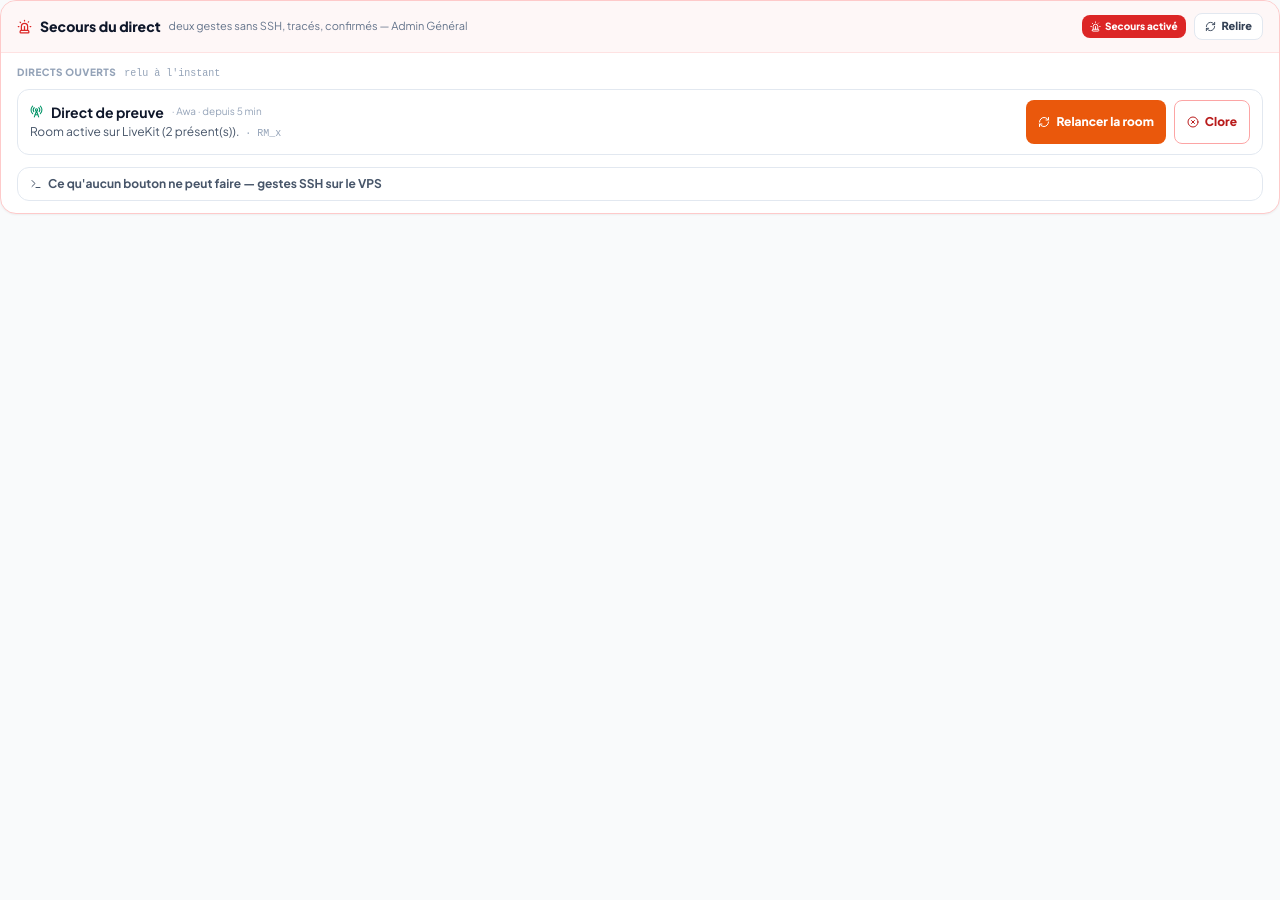
Test: SAT-6 — panneau Secours du direct › l'Admin Général : diagnostic → modale avec le périmètre réel → confirmation cochée → jeton du diagnostic envoyé → verdict affiché
Expected: the text "Direct de preuve" is shown, [51,102,164,122]
Expected: the element with test id "live-emergency-mode" reads "Secours activé", [1105,20,1178,32]
Click the button "Relancer la room".
click(1096, 122)  # box [1026,100,1166,144]
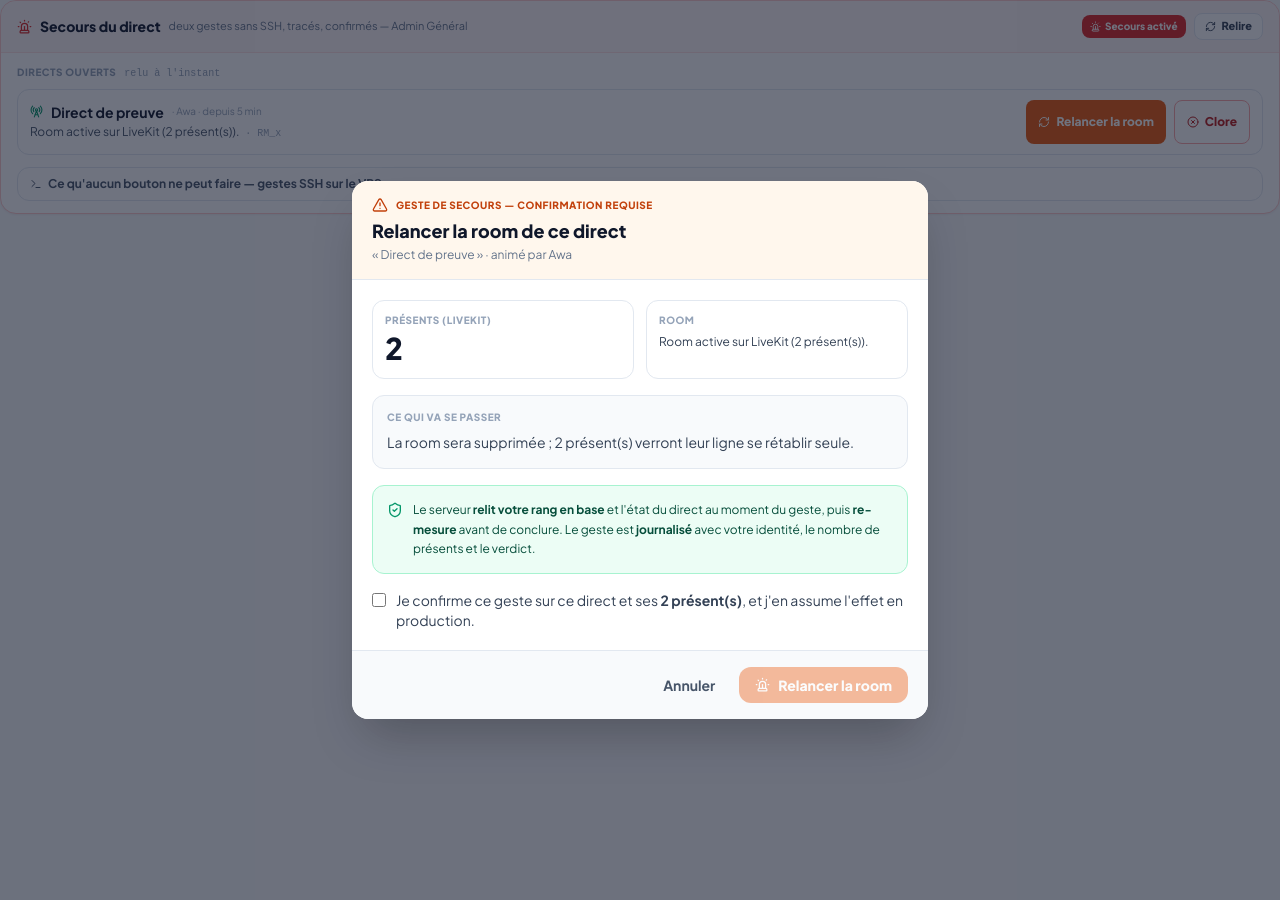
Now the dialog with test id "live-emergency-modal" is shown
Now the text with test id "live-emergency-participants" reads "2", box [385,329,403,367]
Now the text with test id "live-emergency-summary" shows "se rétablir seule", box [387,433,854,451]
Click the checkbox with test id "live-emergency-accept".
click(379, 600)  # box [372,592,386,608]
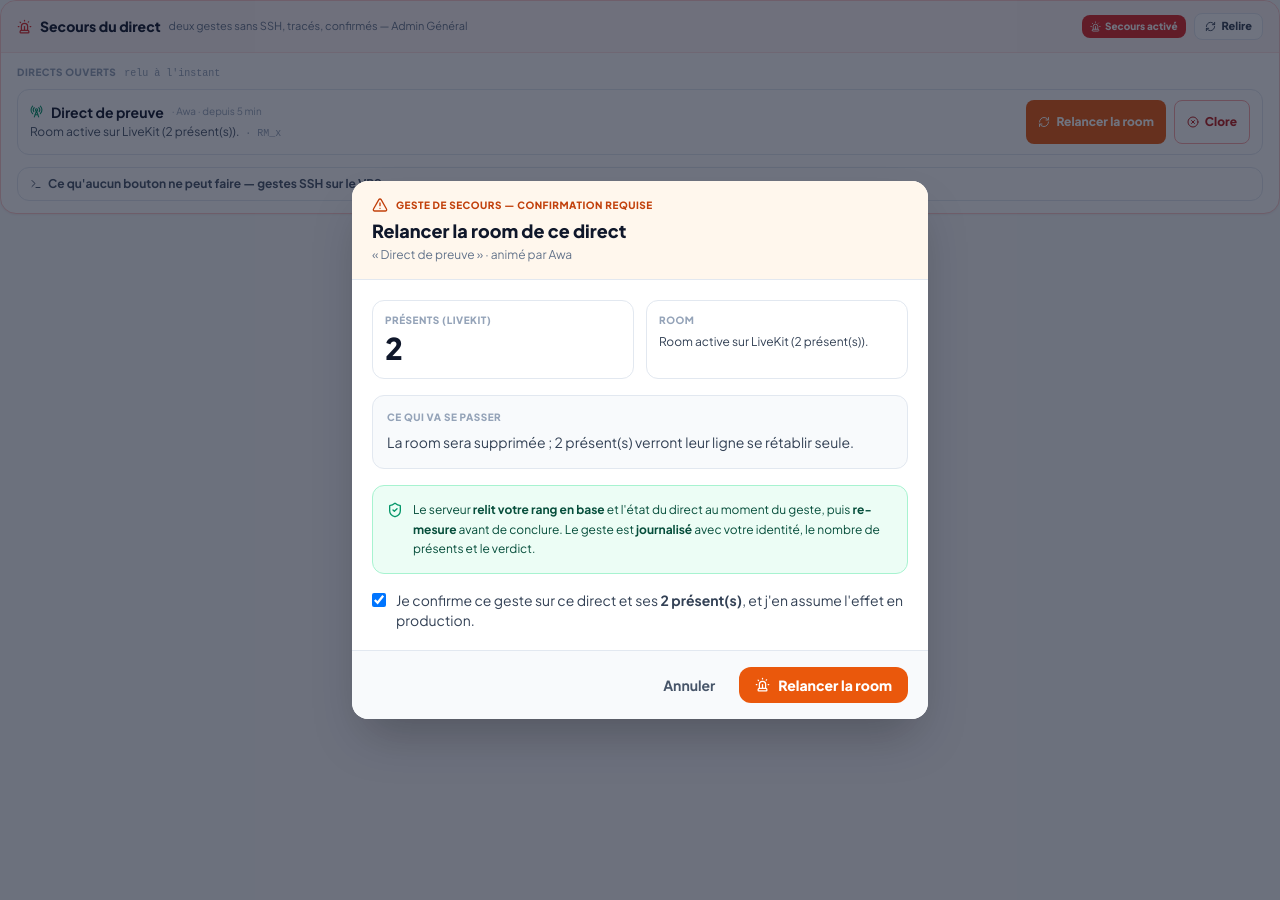
Now the button with test id "live-emergency-confirm" is enabled
Click the button with test id "live-emergency-confirm".
click(824, 685)  # box [739,667,908,703]
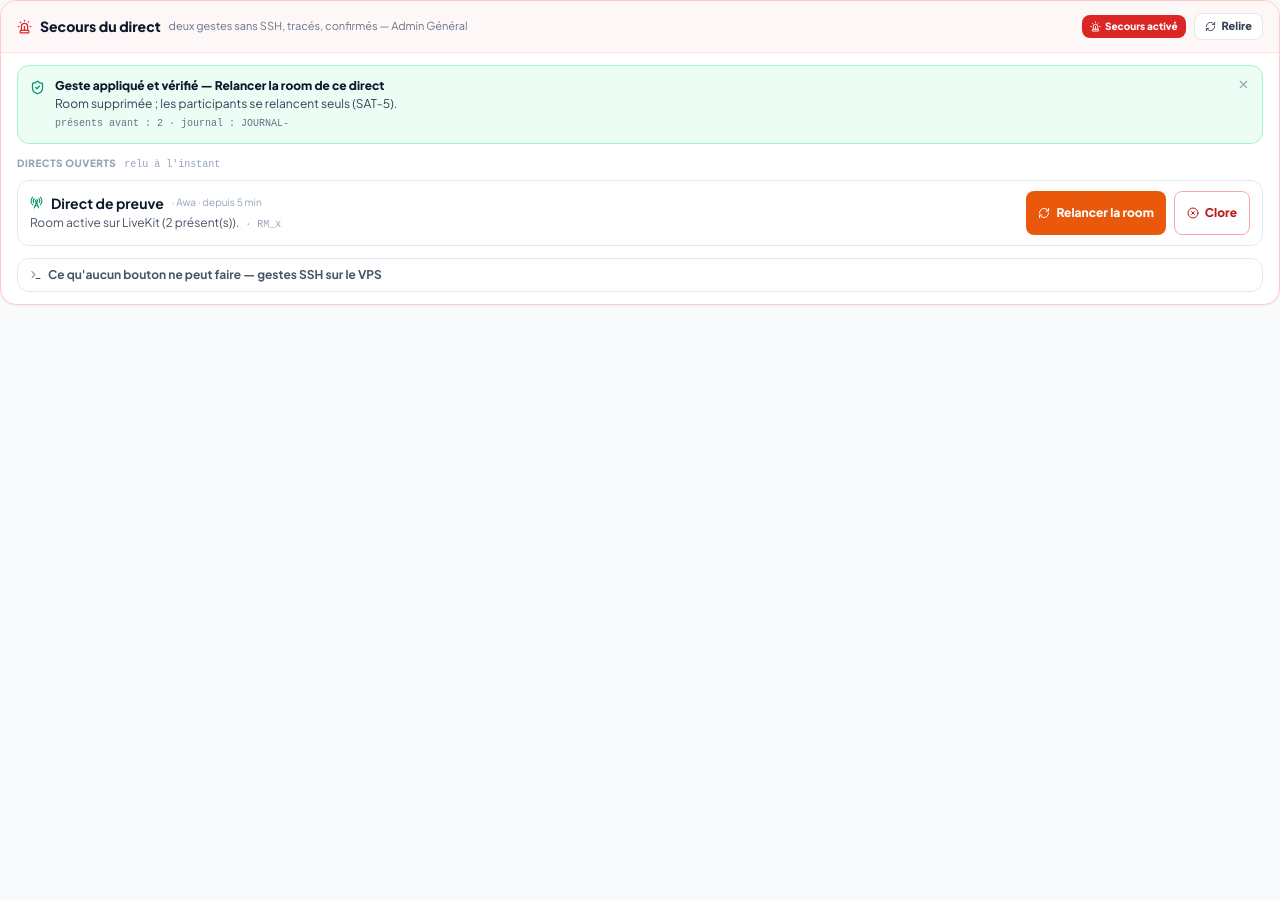
Now the element with test id "live-emergency-result" shows "Geste appliqué et vérifié", box [55,78,198,92]
Now the element with test id "live-emergency-result" shows "se relancent seuls", box [55,96,397,110]
Now the element with test id "live-emergency-result" shows "JOURNAL-", box [241,118,289,128]
